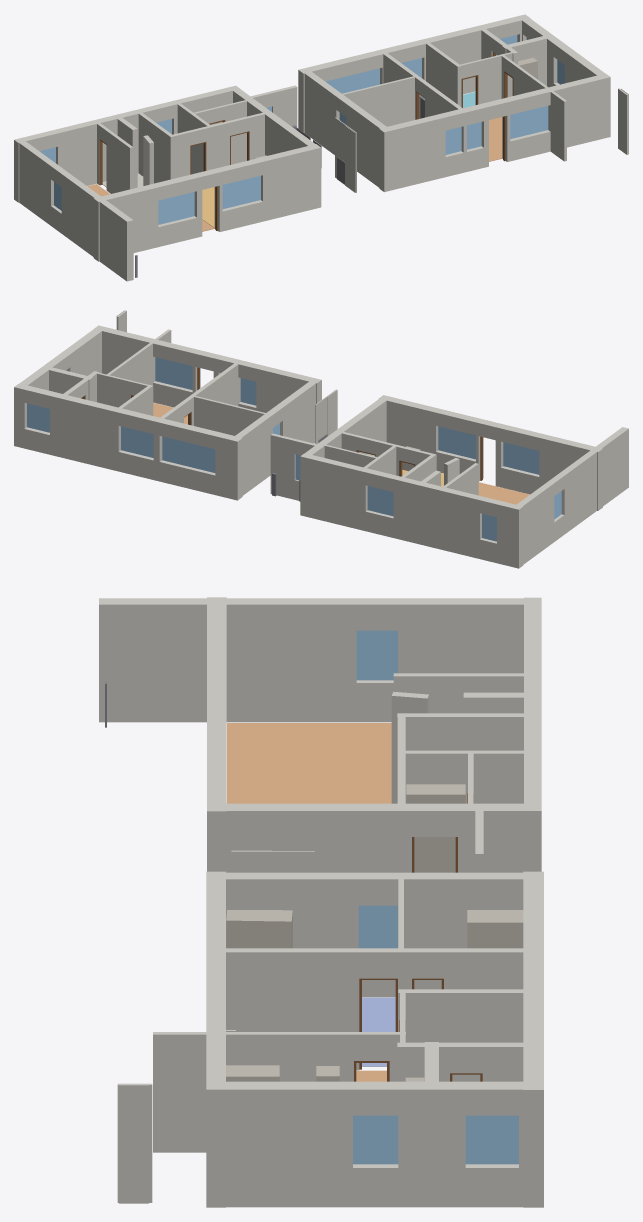
The picture shows the model from 3 angles, top to bottom: view 1: azimuth 30°, elevation 25°; view 2: azimuth 150°, elevation 25°; view 3: azimuth 270°, elevation 25°; orthographic projection. The views are drawn at different scales.
Visible parts, largest first — view 1: walls, window_10, window_17, window_6, window_12, floor_7_Living_Room, railings, floor_2_Kitchen, window_16; view 2: walls, window_12, window_10, window_17, window_6, window_5, window_11, floor_0_Living_Room, window_13, window_16, window_7; view 3: walls, floor_0_Living_Room, furniture_1_closet, window_2, furniture_4_closet, window_1, furniture_0_closet, window_9, window_8, floor_13_Bed_Room, furniture_5_closet.
Part boxes in pixels (x1,y1,x2,y2): walls: (14,14,628,281); window_10: (222,175,260,208); window_17: (510,106,548,138); window_6: (158,192,194,224); window_12: (326,68,379,93); floor_7_Living_Room: (489,117,502,161); railings: (135,94,424,277); floor_2_Kitchen: (202,187,214,227); window_16: (445,127,461,154); walls: (14,310,628,568); window_12: (162,436,215,472); window_10: (438,426,475,459); window_17: (155,357,192,389); window_6: (503,442,539,474); window_5: (121,426,153,457); window_11: (367,486,393,516); floor_0_Living_Room: (478,482,529,504); window_13: (27,403,49,432); window_16: (240,378,256,405); window_7: (482,514,496,541); walls: (99,597,543,1207); floor_0_Living_Room: (227,723,391,803); furniture_1_closet: (406,784,465,872); window_2: (465,1115,518,1164); furniture_4_closet: (226,910,292,948); window_1: (353,1115,398,1164); furniture_0_closet: (467,910,523,948); window_9: (356,630,397,680); window_8: (358,905,397,948); floor_13_Bed_Room: (362,997,395,1066); furniture_5_closet: (226,1065,279,1081).
Size of the model in its own units: 24.21 by 2.72 by 9.24.
